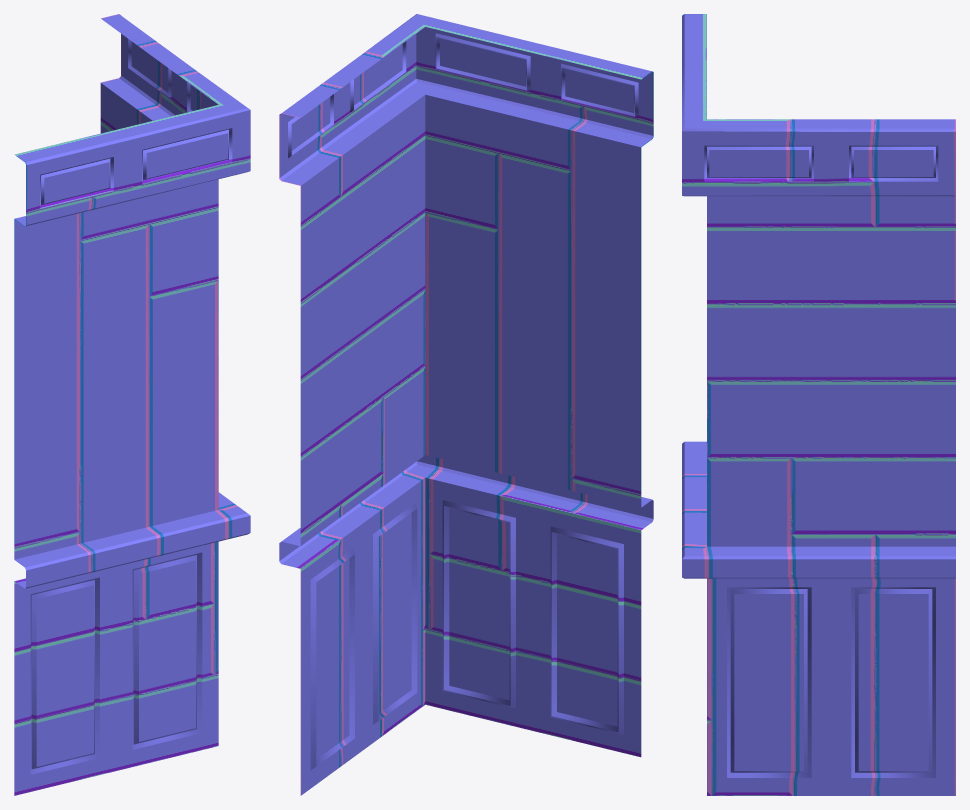
File: Foyer Wall Outer Corner NEW.fbx
3 renders of one model, left to right at view 1: azimuth 30°, elevation 25°; view 2: azimuth 150°, elevation 25°; view 3: azimuth 270°, elevation 25°, orthographic. The views are drawn at different scales.
Parts seen in each view (by area): view 1: Outer_Corner; view 2: Outer_Corner; view 3: Outer_Corner.
Boxes of the visible parts, x1,y1,x2,y2 form: Outer_Corner: (14,14,250,795); Outer_Corner: (279,14,653,795); Outer_Corner: (682,14,955,795).
Bounding box in the file's own units: 110 × 300 × 110.
